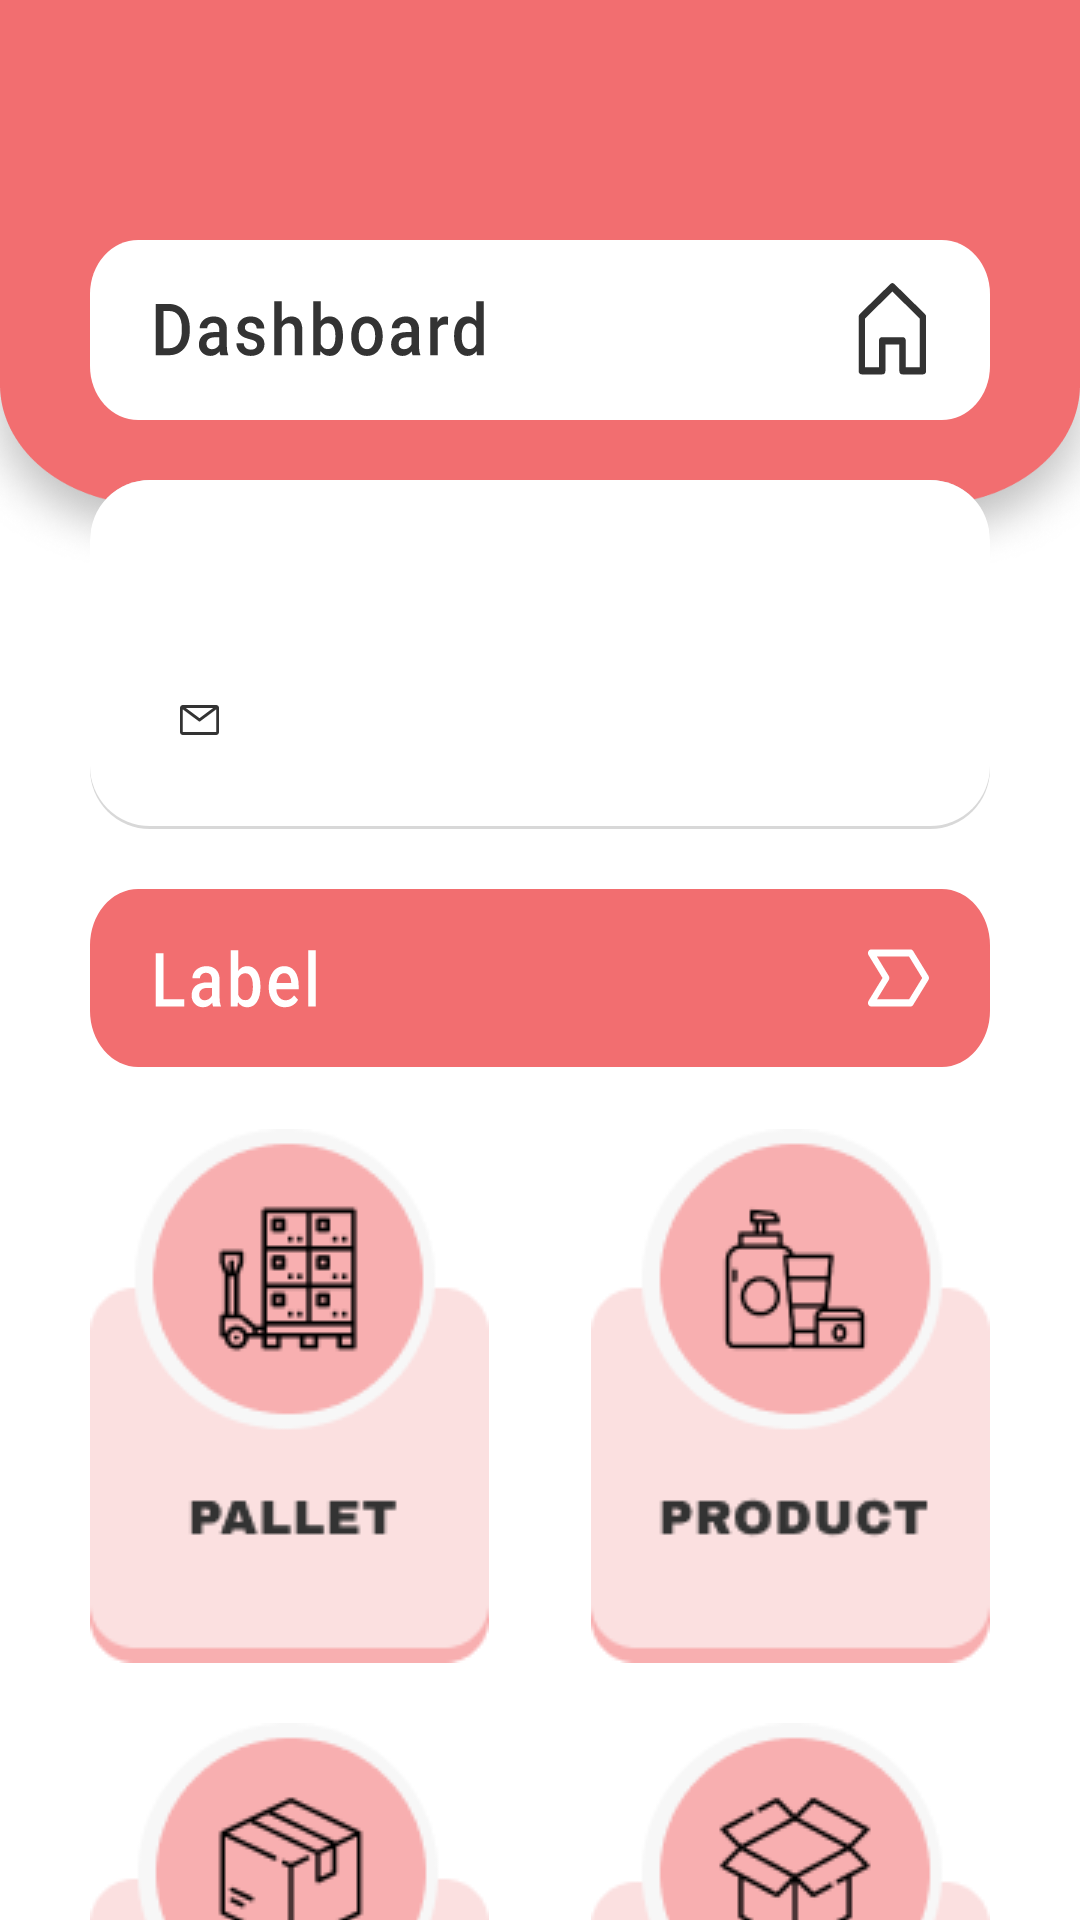

Screen size 1080px x 1920px. Icon name, then its center in pixels as point (x, y):
email: point (199, 720)
